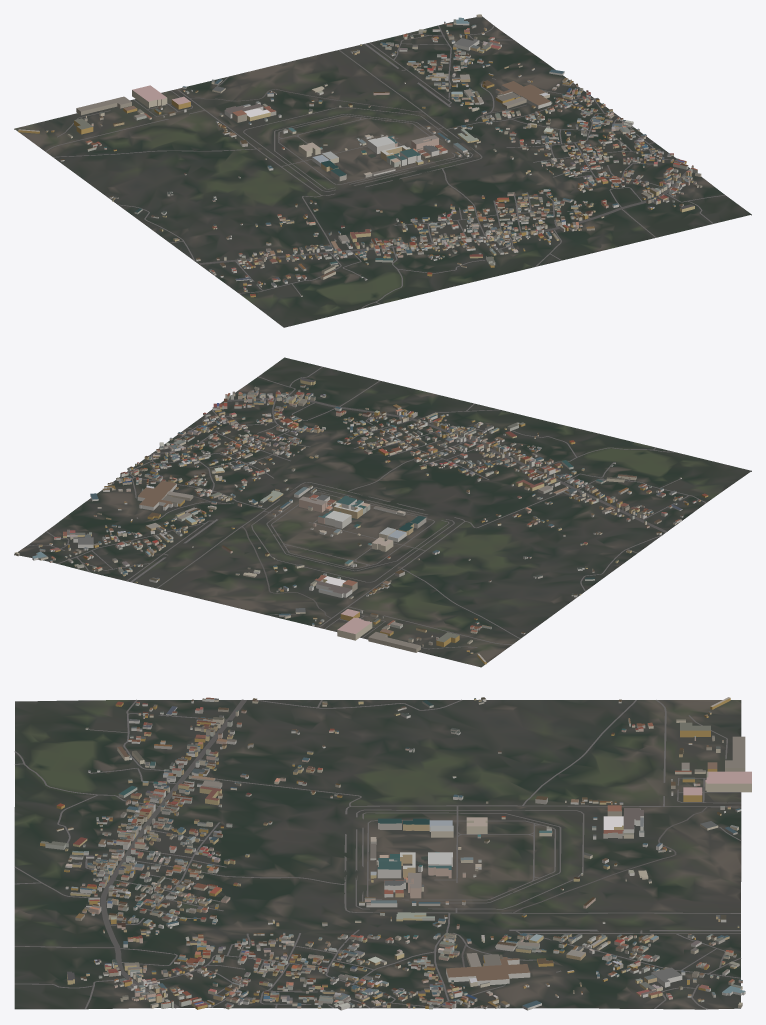
3 views of the same model, one above another, from view 1: azimuth 30°, elevation 25°; view 2: azimuth 150°, elevation 25°; view 3: azimuth 270°, elevation 25° (orthographic). The views are drawn at different scales.
Parts seen in each view (by area): view 1: ground, buildings, roads; view 2: ground, buildings, roads; view 3: ground, buildings, roads.
Part boxes in pixels (x1,y1,x2,y2): ground: (14,16,751,327); buildings: (18,14,702,297); roads: (45,25,725,308); ground: (14,357,751,667); buildings: (14,378,708,664); roads: (26,366,706,649); ground: (14,700,741,1009); buildings: (40,697,751,1010); roads: (14,699,741,1009).
Bounding box in the file's own units: 1412 × 29.57 × 1424.
